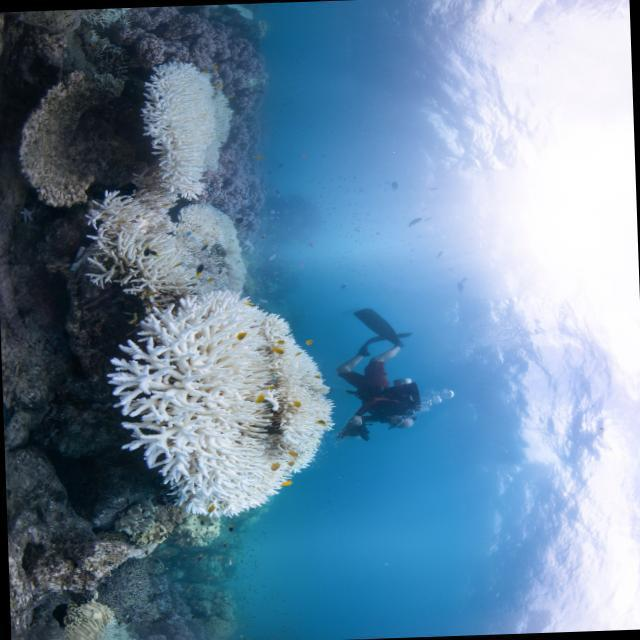Bleached Coral: (87, 300, 357, 538), (109, 57, 249, 188), (52, 189, 200, 298), (181, 203, 257, 308), (104, 625, 135, 640)
Dead Coral: (105, 561, 169, 619), (127, 545, 156, 558)
